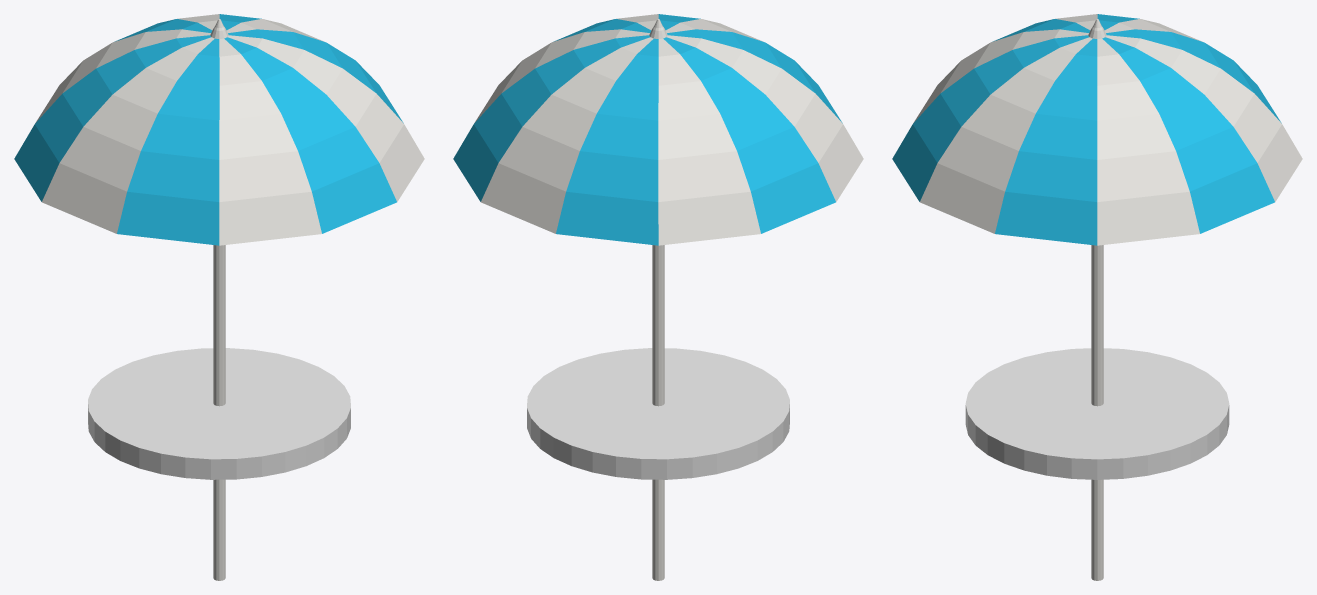
File: パラソル.fbx
3 views of the same model, side by side, from view 1: azimuth 30°, elevation 25°; view 2: azimuth 150°, elevation 25°; view 3: azimuth 270°, elevation 25° (orthographic).
Visible parts, largest first — view 1: 球, 円柱; view 2: 球, 円柱; view 3: 球, 円柱.
Boxes of the visible parts, x1,y1,x2,y2 form: 球: [14, 14, 424, 580]; 円柱: [88, 348, 350, 479]; 球: [453, 14, 863, 580]; 円柱: [527, 348, 789, 479]; 球: [892, 14, 1302, 580]; 円柱: [965, 348, 1229, 479].
Bounding box in the file's own units: 311 × 468 × 311.
